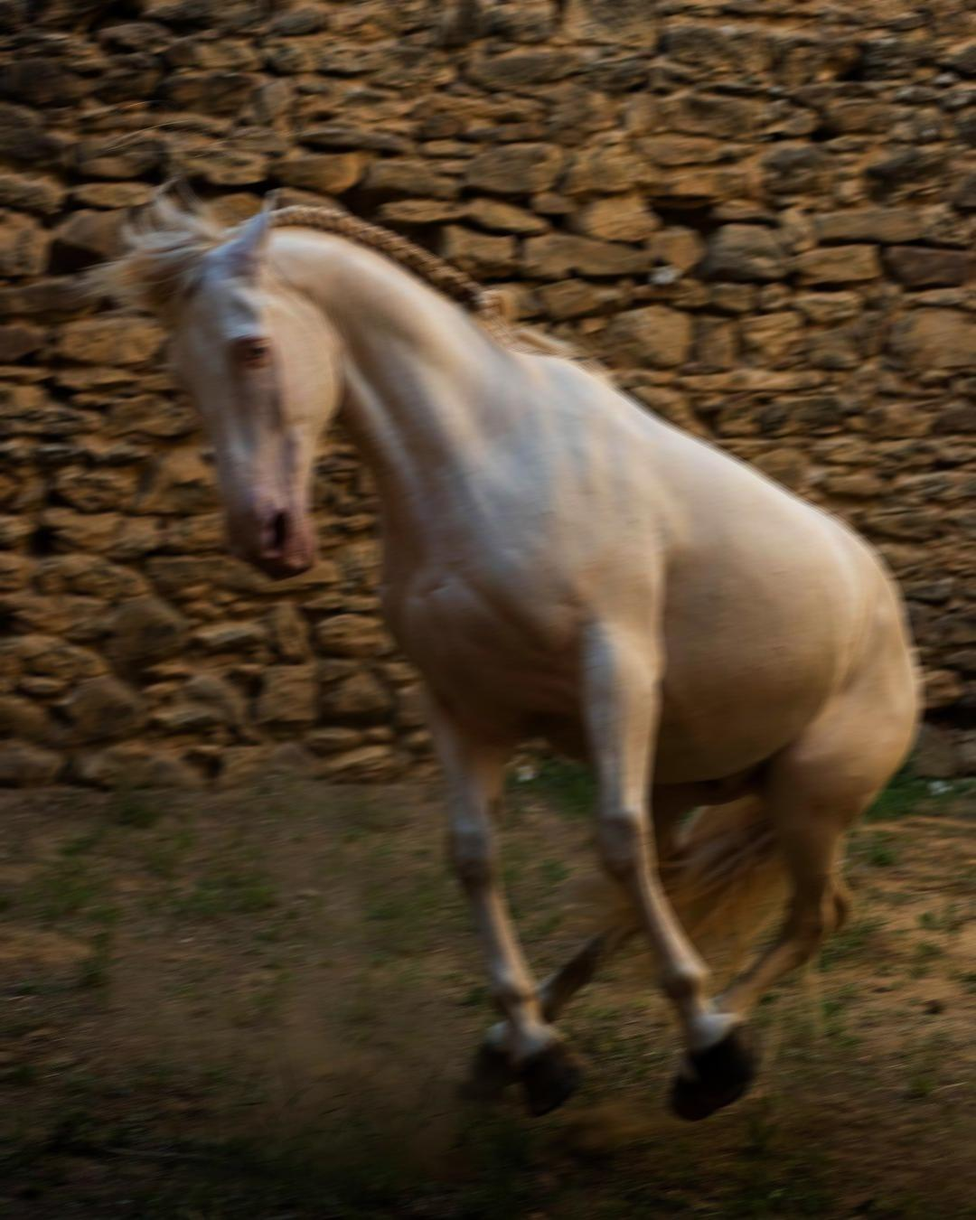horse: (67, 164, 924, 1123)
